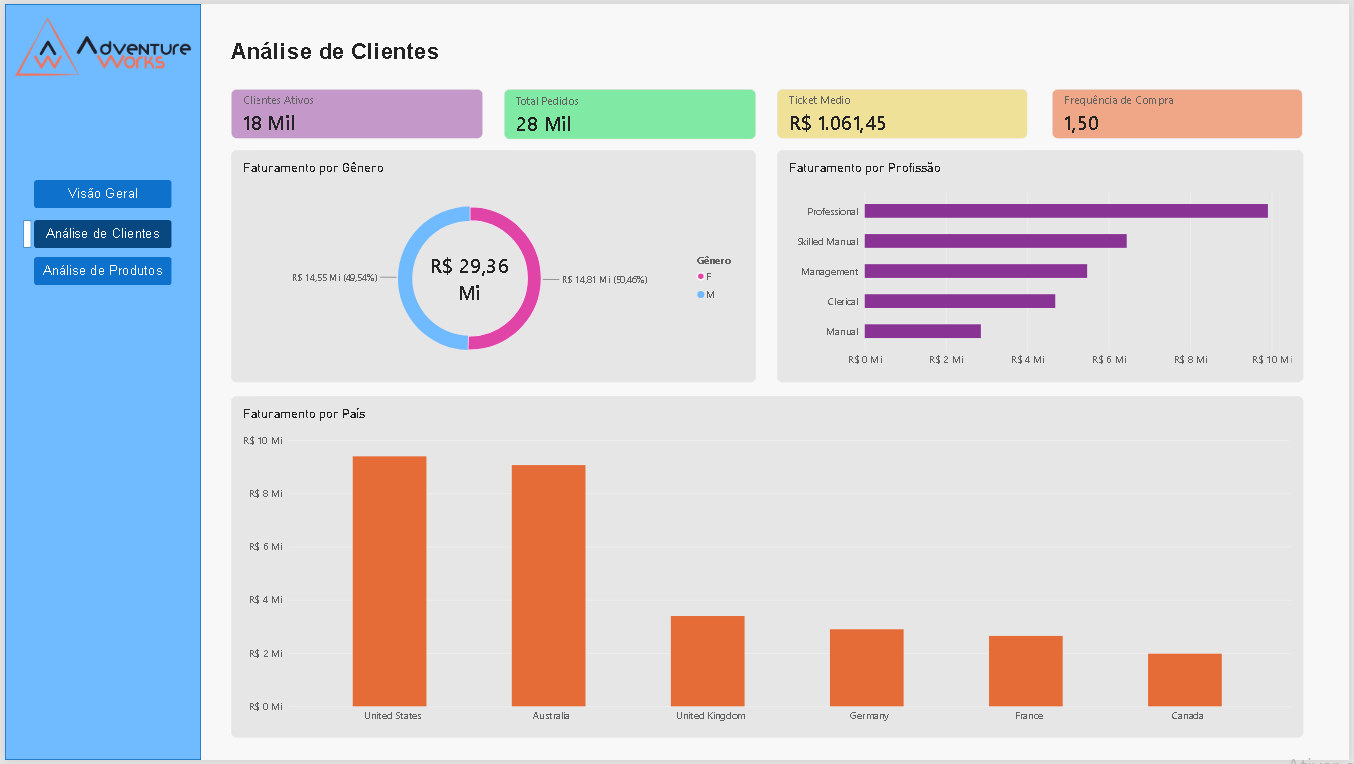

Layout of this report page (visuals, bound fields, positions):
{"tool":"powerbi","page":{"name":"Análise de Clientes","canvas":[1920,1080],"ordinal":1},"visuals":[{"type":"shape","box":[0,0,280,1080],"z":0},{"type":"image","box":[0,0,280,122],"z":1000},{"type":"textbox","box":[323.3,48.3,360,40],"z":2000},{"type":"donutChart","title":"Faturamento por Gênero","fields":{"Category":["DimCustomer.Gender"],"Y":["FactInternetSales.Faturamento Total"]},"box":[323.3,208.3,750,331.7],"z":3000},{"type":"cardVisual","fields":{"Data":["FactInternetSales.Clientes Ativos"]},"box":[323.3,121.7,360,71.7],"z":4000},{"type":"cardVisual","fields":{"Data":["FactInternetSales.Total Pedidos"]},"box":[712.5,121.2,360,72],"z":5000},{"type":"cardVisual","fields":{"Data":["FactInternetSales.Ticket Medio"]},"box":[1103.3,121.7,358.3,71.7],"z":6000},{"type":"clusteredColumnChart","title":"Faturamento por País","fields":{"Category":["DimGeography.EnglishCountryRegionName"],"Y":["FactInternetSales.Faturamento Total"]},"box":[323.3,560,1531.7,488.3],"z":7000},{"type":"barChart","title":"Faturamento por Profissão","fields":{"Category":["DimCustomer.EnglishOccupation"],"Y":["FactInternetSales.Faturamento Total"]},"box":[1103.3,208.3,751.7,331.7],"z":8000},{"type":"actionButton","box":[41.7,250.8,196.7,40],"z":9000},{"type":"actionButton","box":[41.7,308.3,196.7,40],"z":10000},{"type":"shape","box":[25,308.5,12,40],"z":11000},{"type":"cardVisual","fields":{"Data":["FactInternetSales.Frequência de Compra"]},"box":[1495.7,121.4,358.6,71.4],"z":12000},{"type":"actionButton","box":[41.7,361.2,196.7,40],"z":12001}]}

Visuals, with their boxes on the page's 1920x1080 design canvas (x1, y1, x2, y2). These are canvas units, not pixel positions in the 1354x764 screenshot, which may show the page scaled, cropped or inside an application window:
shape: left=0, top=0, right=280, bottom=1080
image: left=0, top=0, right=280, bottom=122
textbox: left=323, top=48, right=683, bottom=88
"Faturamento por Gênero" donutChart: left=323, top=208, right=1073, bottom=540
cardVisual - FactInternetSales.Clientes Ativos: left=323, top=122, right=683, bottom=193
cardVisual - FactInternetSales.Total Pedidos: left=712, top=121, right=1072, bottom=193
cardVisual - FactInternetSales.Ticket Medio: left=1103, top=122, right=1462, bottom=193
"Faturamento por País" clusteredColumnChart: left=323, top=560, right=1855, bottom=1048
"Faturamento por Profissão" barChart: left=1103, top=208, right=1855, bottom=540
actionButton: left=42, top=251, right=238, bottom=291
actionButton: left=42, top=308, right=238, bottom=348
shape: left=25, top=308, right=37, bottom=348
cardVisual - FactInternetSales.Frequência de Compra: left=1496, top=121, right=1854, bottom=193
actionButton: left=42, top=361, right=238, bottom=401
